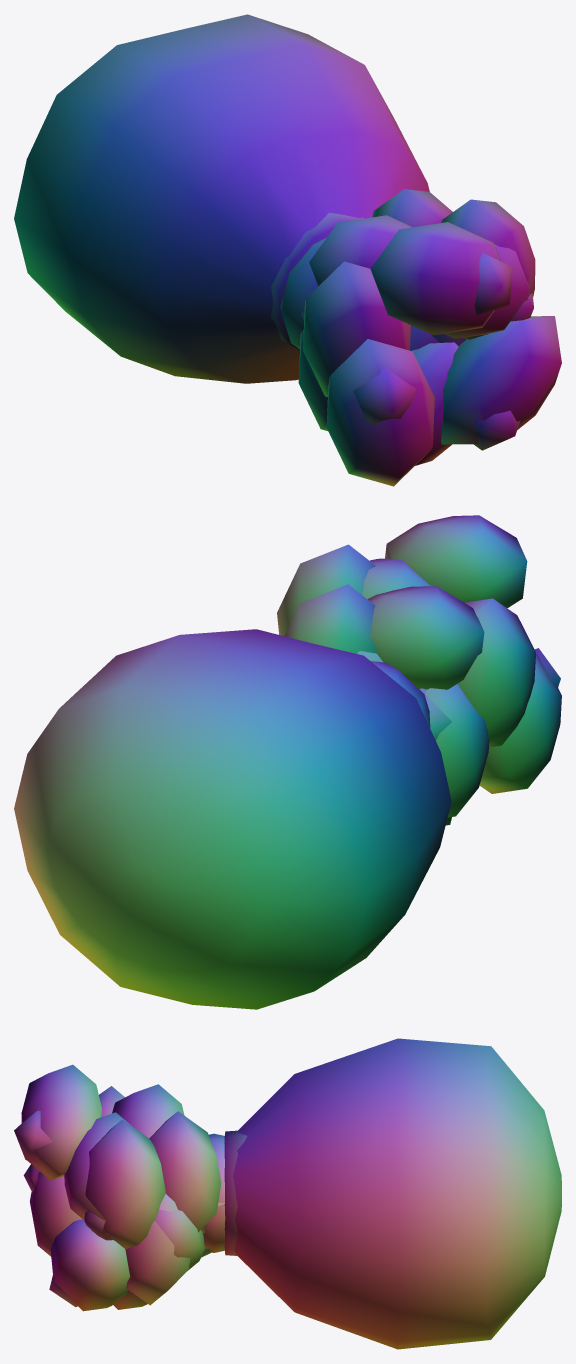
Rendered from SM_NPCKit_Prop_HerbPouch.fbx.
The picture shows the model from 3 angles, top to bottom: view 1: azimuth 30°, elevation 25°; view 2: azimuth 150°, elevation 25°; view 3: azimuth 270°, elevation 25°; orthographic projection. The views are drawn at different scales.
Parts seen in each view (by area): view 1: SM_NPCKit_Prop_HerbPouch; view 2: SM_NPCKit_Prop_HerbPouch; view 3: SM_NPCKit_Prop_HerbPouch.
Part boxes in pixels (x1,y1,x2,y2): SM_NPCKit_Prop_HerbPouch: (14,14,561,486); SM_NPCKit_Prop_HerbPouch: (14,515,561,1009); SM_NPCKit_Prop_HerbPouch: (14,1038,561,1349).
Size of the model in its own units: 0.2126 by 0.186 by 0.3541.
